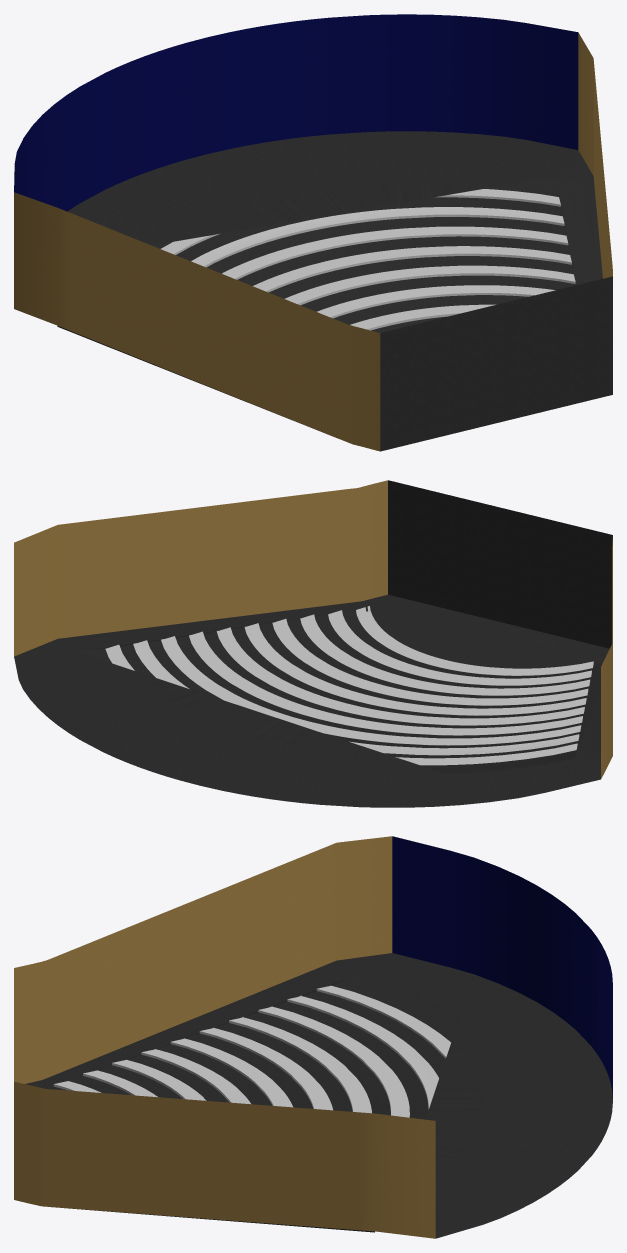
File: predio .fbx
The picture shows the model from 3 angles, top to bottom: view 1: azimuth 30°, elevation 25°; view 2: azimuth 150°, elevation 25°; view 3: azimuth 270°, elevation 25°; orthographic projection. The views are drawn at different scales.
Visible parts, largest first — view 1: edificio; view 2: edificio; view 3: edificio.
Boxes of the visible parts, x1=… form: edificio: x1=14, y1=14, x2=612, y2=451; edificio: x1=14, y1=480, x2=612, y2=807; edificio: x1=14, y1=836, x2=612, y2=1238.
Bounding box in the file's own units: 44900 × 12090 × 39766.
